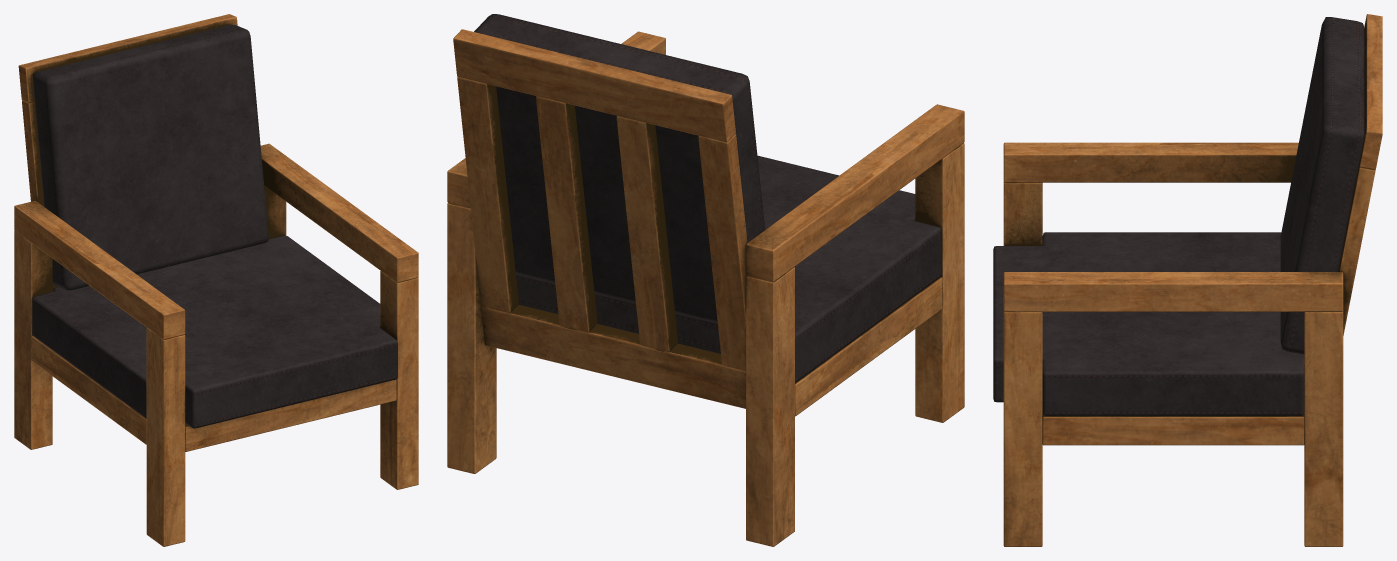
The model's file is Arm Chair.fbx.
3 renders of one model, left to right at view 1: azimuth 30°, elevation 25°; view 2: azimuth 150°, elevation 25°; view 3: azimuth 270°, elevation 25°, orthographic. The views are drawn at different scales.
Parts seen in each view (by area): view 1: chair; view 2: chair; view 3: chair.
Part boxes in pixels (x1,y1,x2,y2): chair: [14, 14, 418, 546]; chair: [447, 14, 964, 546]; chair: [993, 14, 1382, 546].
Bounding box in the file's own units: 43.96 × 58.81 × 51.16.
Materials: 1 (1 with a texture image).
